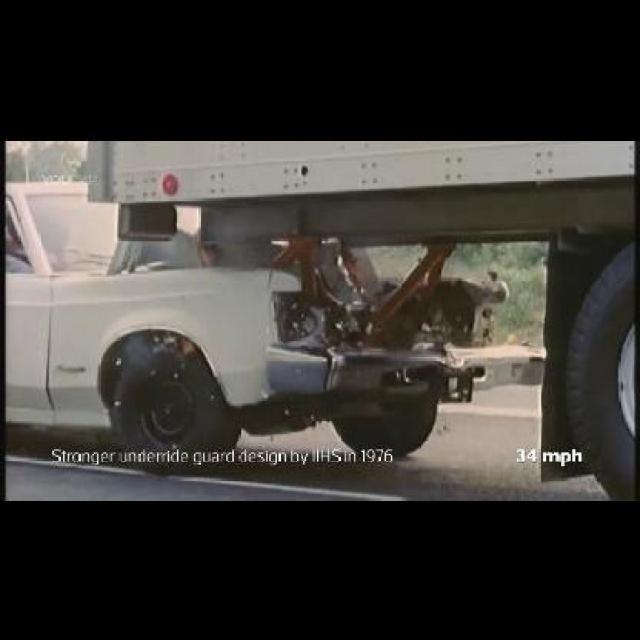accident: (1, 139, 636, 476)
